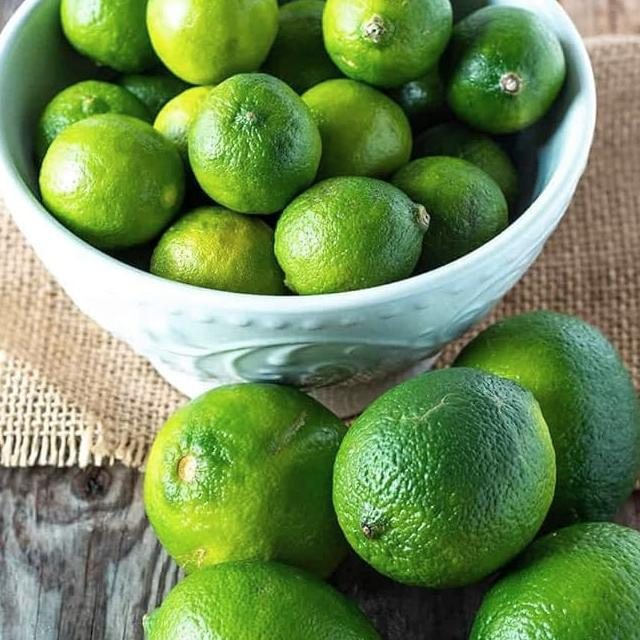lime: (336, 374, 554, 588), (142, 384, 349, 582), (453, 308, 640, 522), (466, 524, 640, 640), (275, 177, 430, 297), (44, 114, 186, 244), (146, 565, 380, 640), (188, 79, 317, 213), (390, 156, 510, 274), (447, 7, 562, 129), (150, 206, 284, 295), (149, 0, 279, 87), (301, 78, 412, 176), (326, 0, 452, 83), (60, 0, 155, 74)
